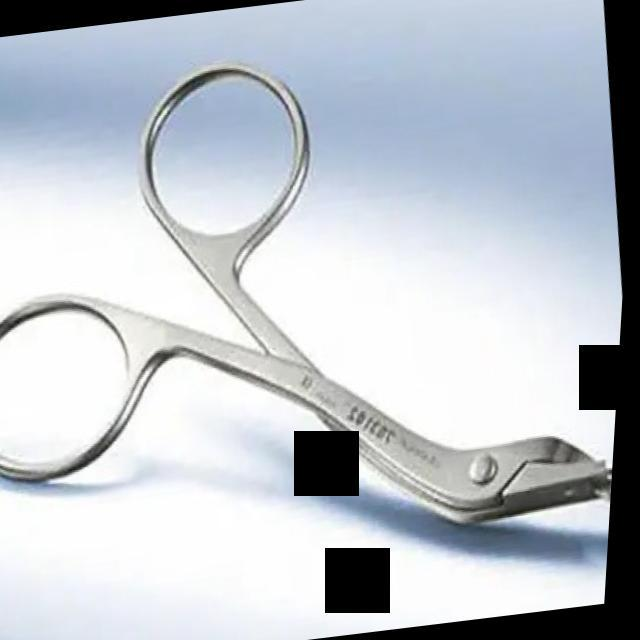Stapler Remover: (0, 7, 640, 597)
